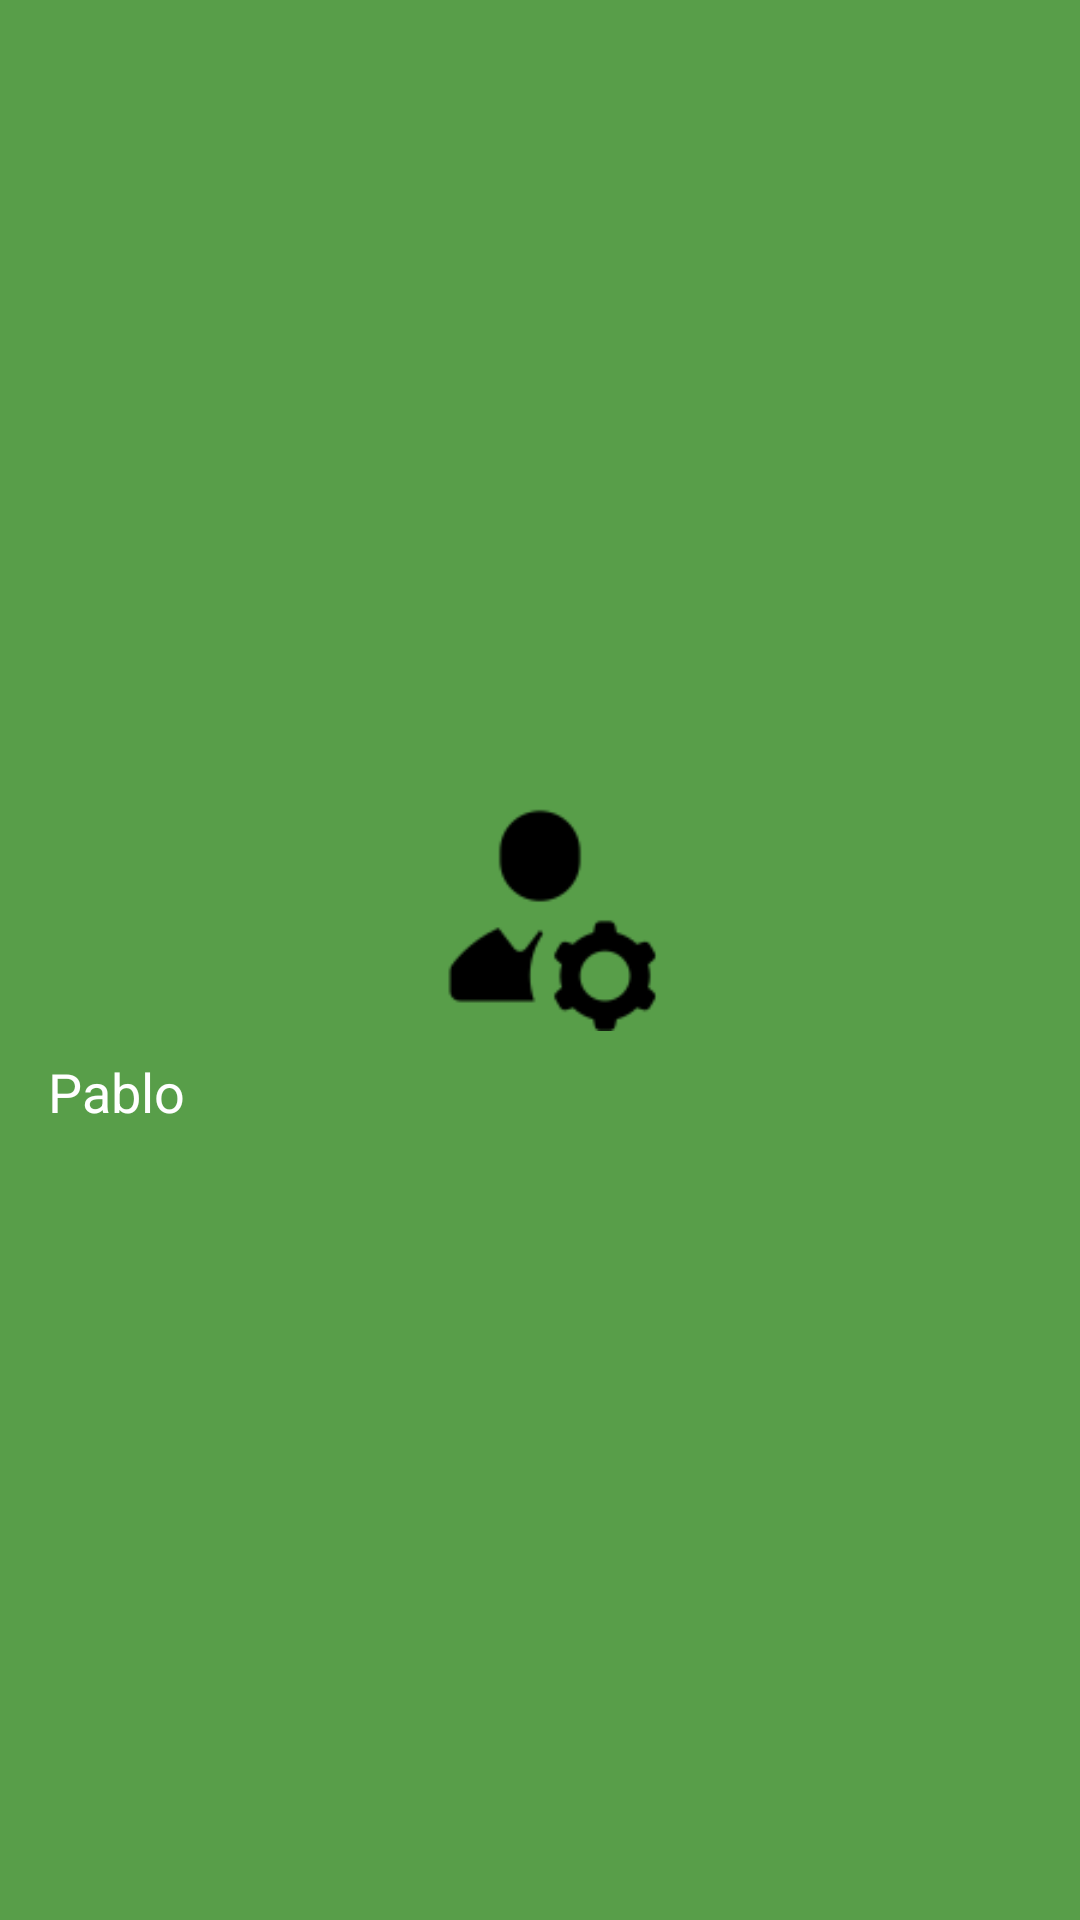

Icons on this 1080w x 1920h Android screen, each with its box as (x1, y1, x2, y2):
perfil: (448, 810, 656, 1031)
